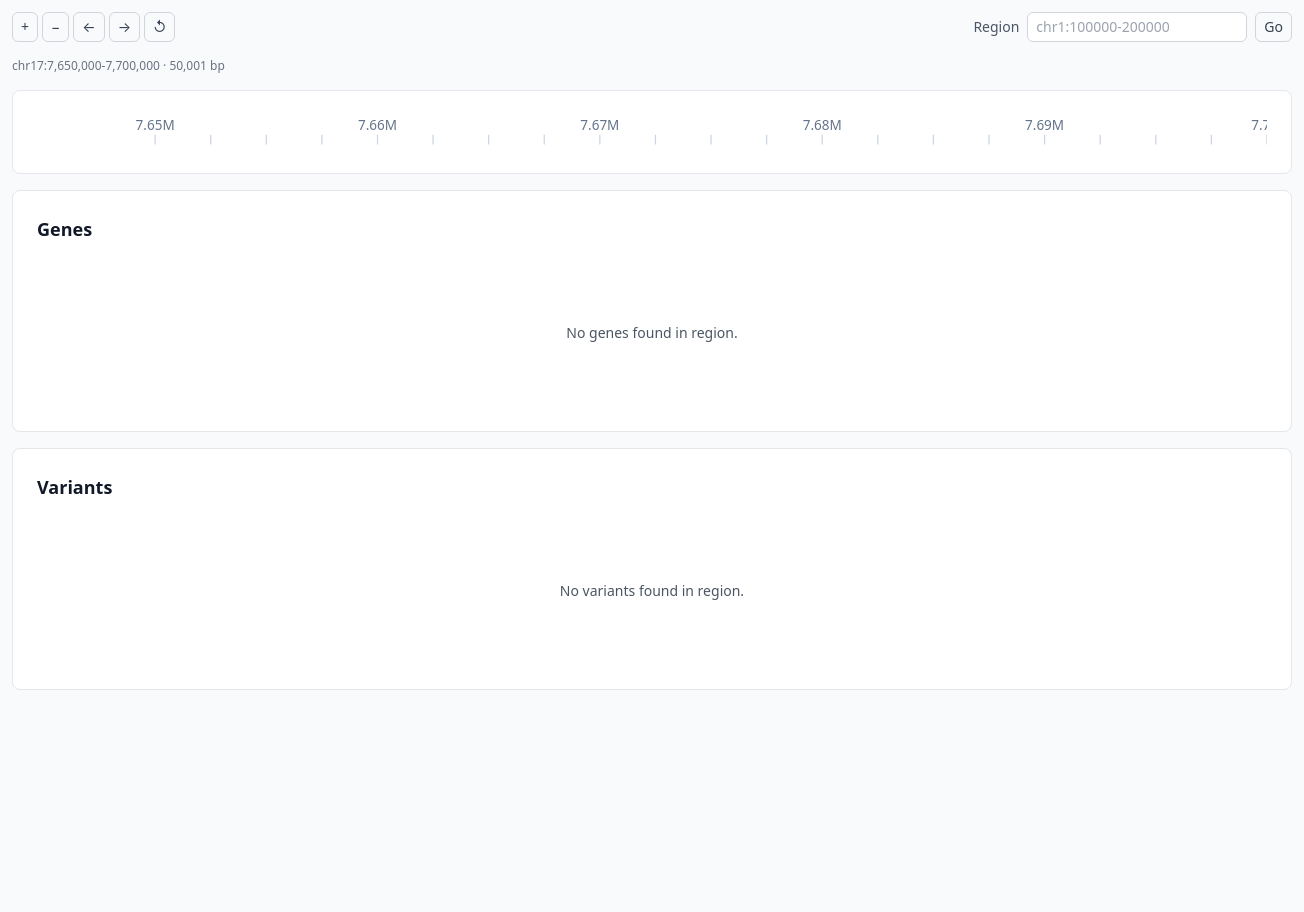
Test: GenomeBrowser › keeps invalid region input and announces the error without refetching
The width and height of the screenshot is (1304, 912).
Type "not-a-region" into the field with placeholder "chr1:100000-200000". click: [1137, 27]
box: left=1027, top=12, right=1247, bottom=42
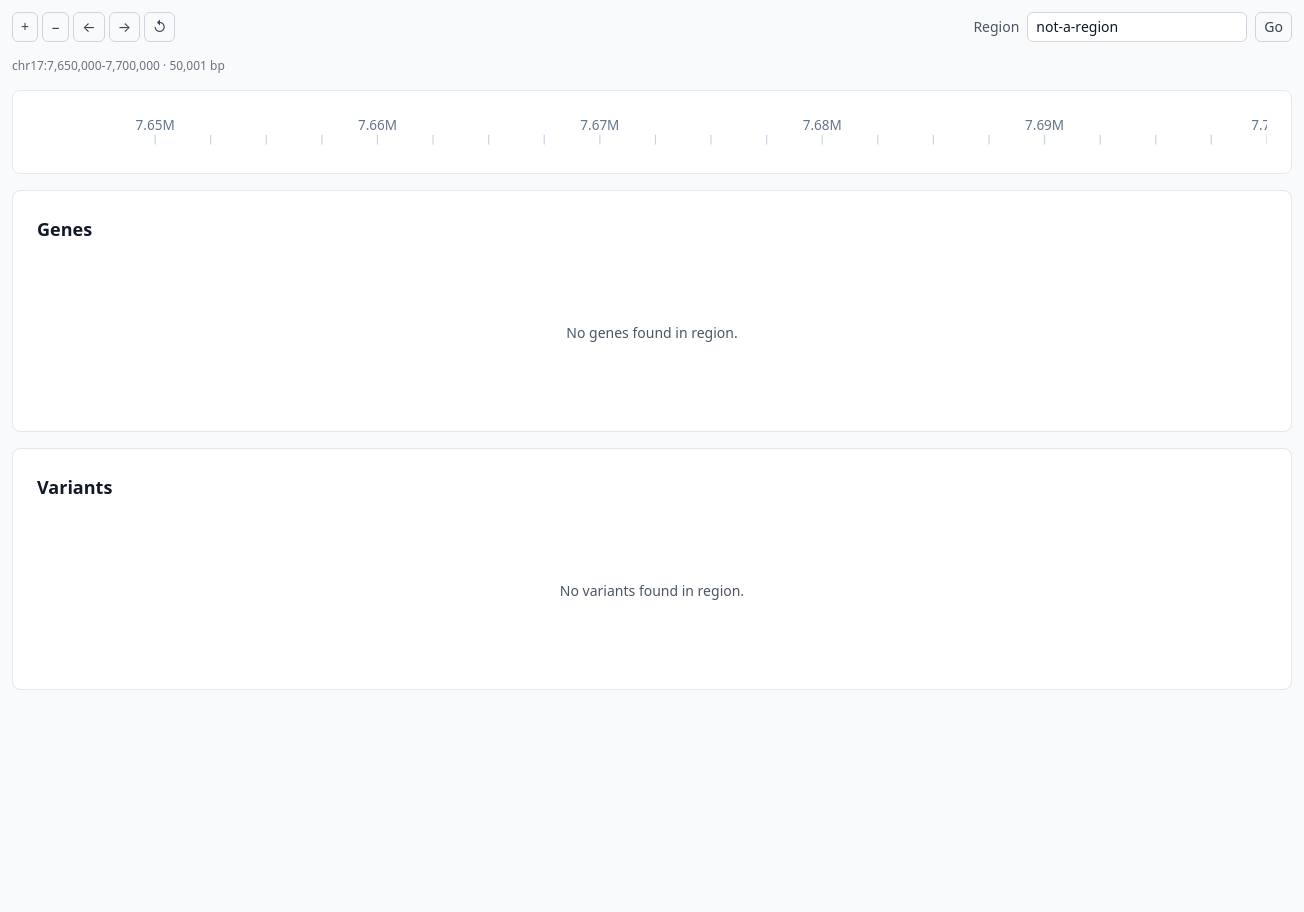
Click the button "Go". click: [1274, 27]
box: left=1255, top=12, right=1292, bottom=42
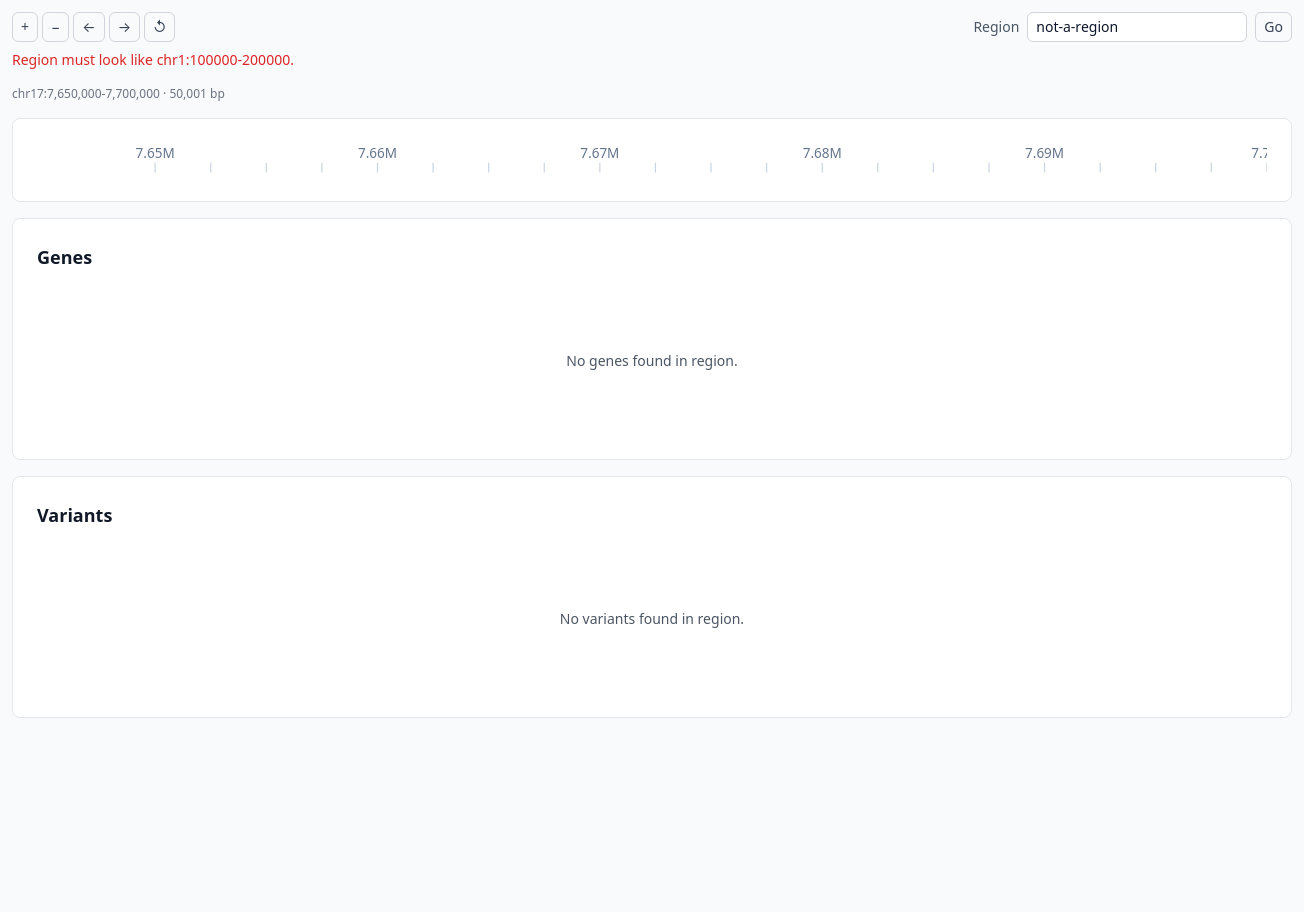
Expected: the message shows "must look like chr1:100000-200000", left=12, top=50, right=294, bottom=69
Note: Editing clears the error.
Replace the text in the field with placeholder "chr1:100000-200000" with "chr17:10-100". click: [1137, 27]
box: left=1027, top=12, right=1247, bottom=42
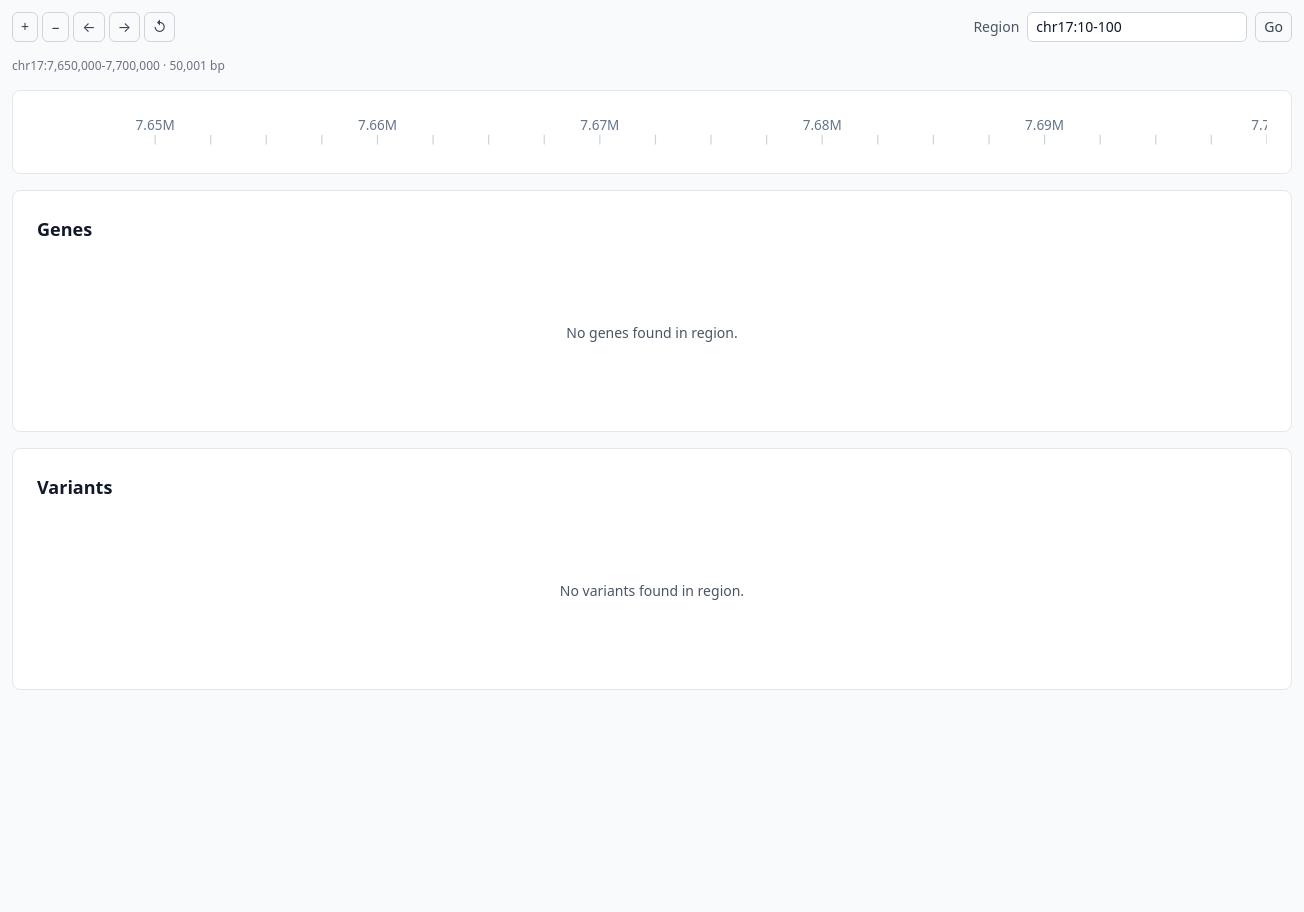
Expected: the message "Region must look like chr1:100000-200000." is gone
